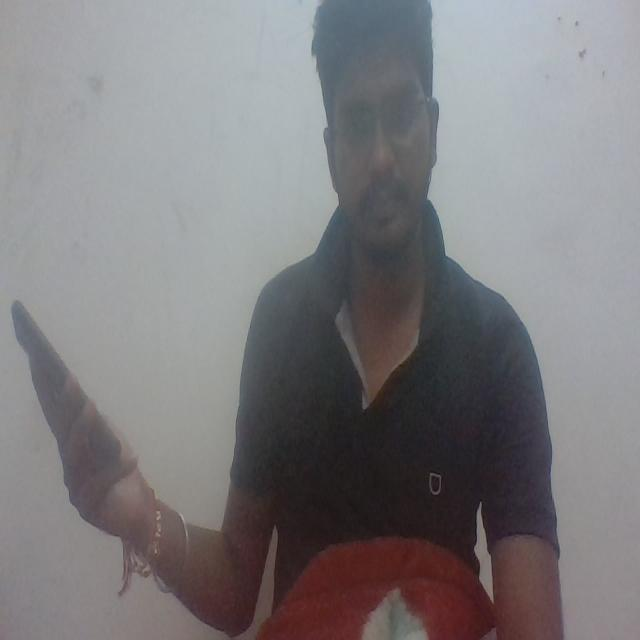Phone: (9, 295, 121, 464)
